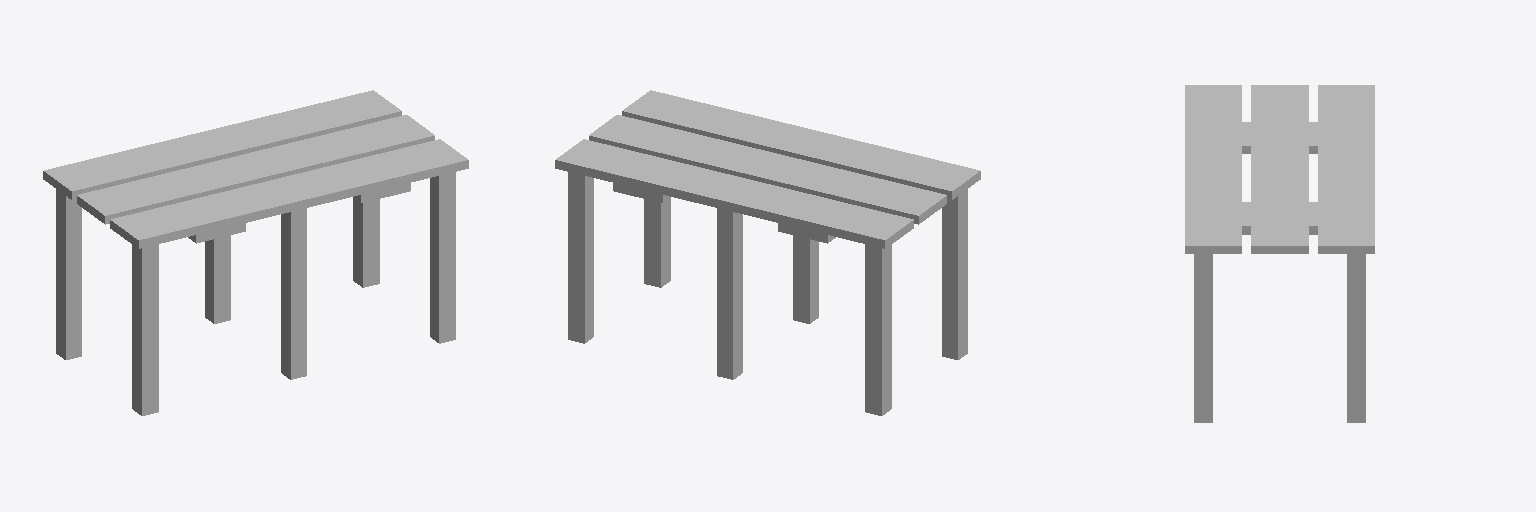
The model's file is scaffold_small_medium_long.obj.
3 views of the same model, side by side, from view 1: azimuth 30°, elevation 25°; view 2: azimuth 150°, elevation 25°; view 3: azimuth 270°, elevation 25° (orthographic).
Visible parts, largest first — view 1: scaffold_small_medium_long_Cube.2464; view 2: scaffold_small_medium_long_Cube.2464; view 3: scaffold_small_medium_long_Cube.2464.
Boxes of the visible parts, x1,y1,x2,y2 form: scaffold_small_medium_long_Cube.2464: [43, 90, 468, 415]; scaffold_small_medium_long_Cube.2464: [555, 90, 980, 415]; scaffold_small_medium_long_Cube.2464: [1185, 85, 1374, 422].
Bounding box in the file's own units: 4 × 2.1 × 2.